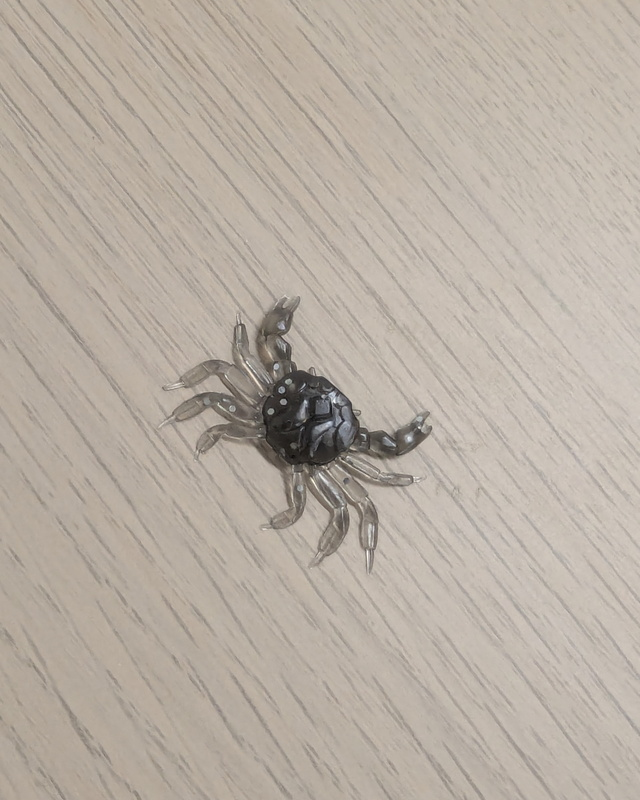crab1: (157, 290, 438, 573)
